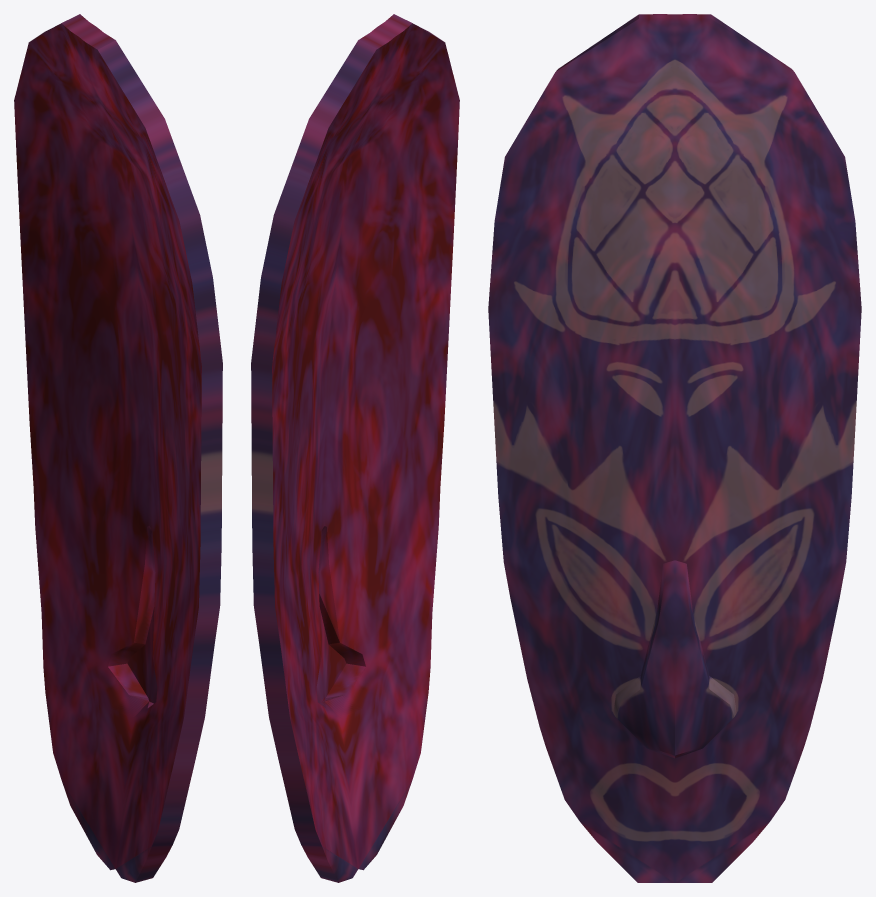
File: African_mask.fbx
The picture shows the model from 3 angles, left to right: view 1: azimuth 30°, elevation 25°; view 2: azimuth 150°, elevation 25°; view 3: azimuth 270°, elevation 25°; orthographic projection.
Parts seen in each view (by area): view 1: Plane; view 2: Plane; view 3: Plane.
Boxes of the visible parts, <box> form: Plane: <box>14,14,222,882</box>; Plane: <box>251,14,459,882</box>; Plane: <box>488,14,861,882</box>.
Bounding box in the file's own units: 58.67 × 470 × 187.
